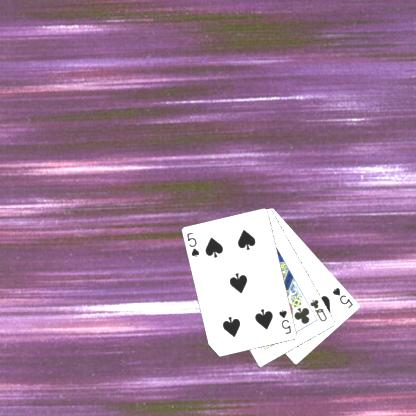5S: (330, 284, 354, 310), (276, 307, 293, 336), (184, 230, 201, 259)
QC: (307, 297, 329, 323)
